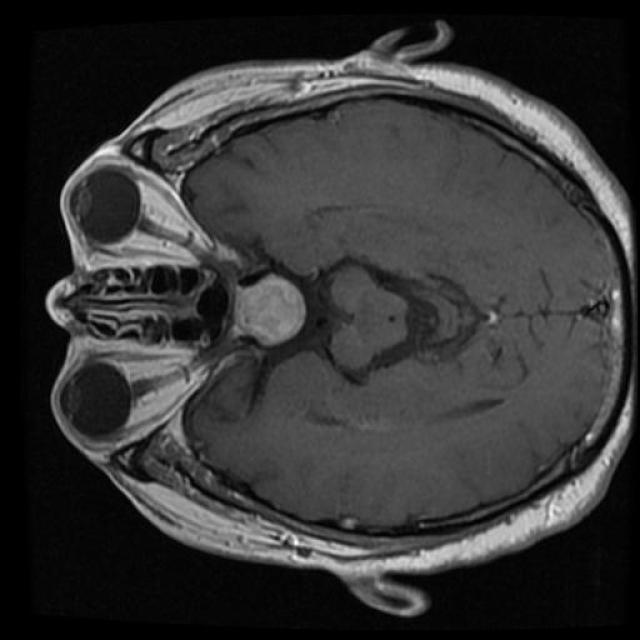Pituitary: (229, 270, 307, 348)
